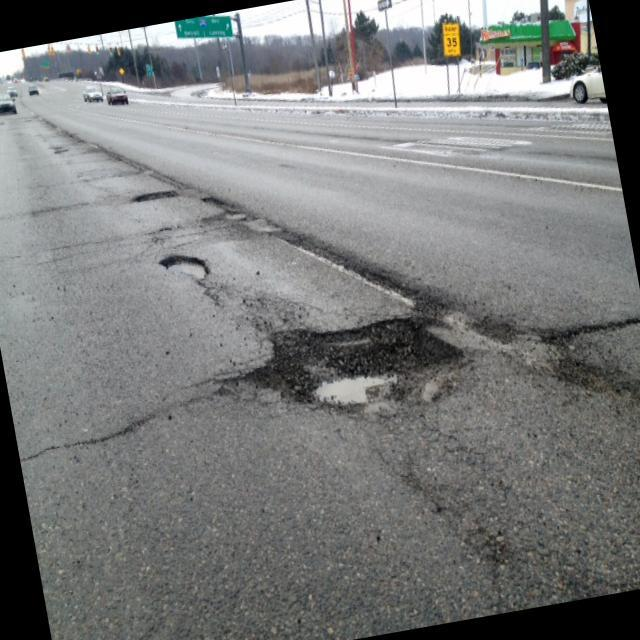Pothole: (255, 290, 464, 433), (158, 243, 216, 295), (134, 180, 180, 207), (201, 184, 231, 216), (219, 204, 255, 226)
